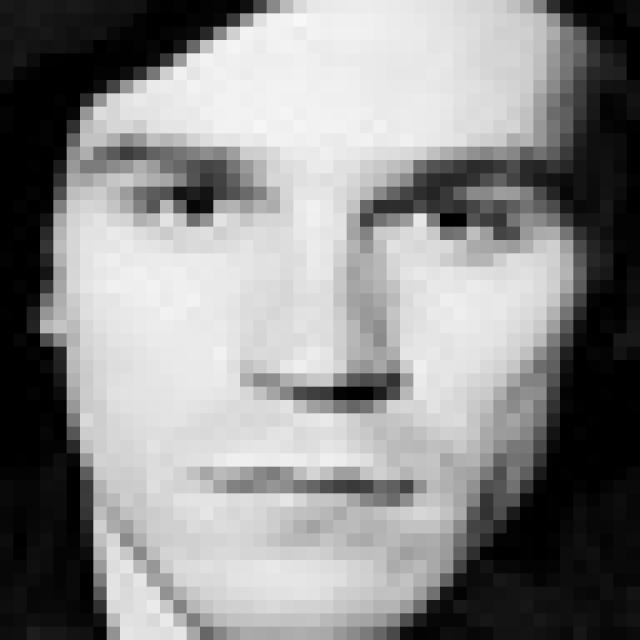neutral: (75, 127, 564, 541)
